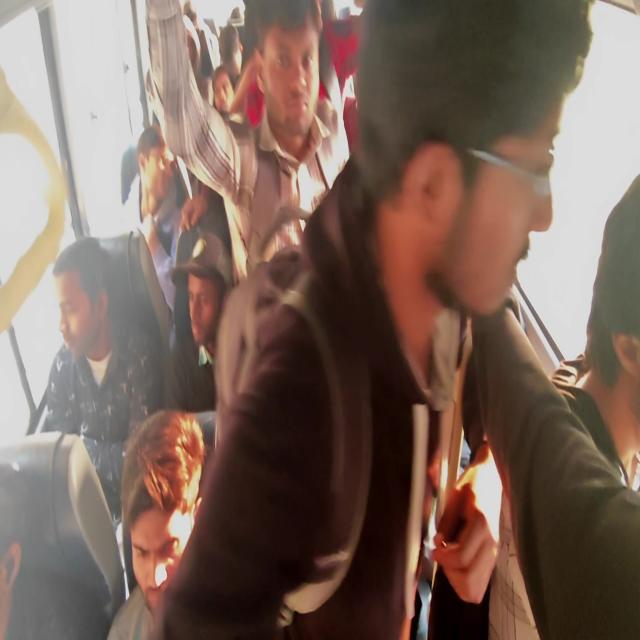person: (364, 6, 583, 303), (120, 434, 199, 600), (253, 5, 325, 136), (51, 257, 114, 355), (0, 465, 33, 606), (185, 242, 227, 341), (140, 127, 175, 197), (213, 71, 236, 123), (220, 32, 247, 60), (183, 3, 195, 26)
